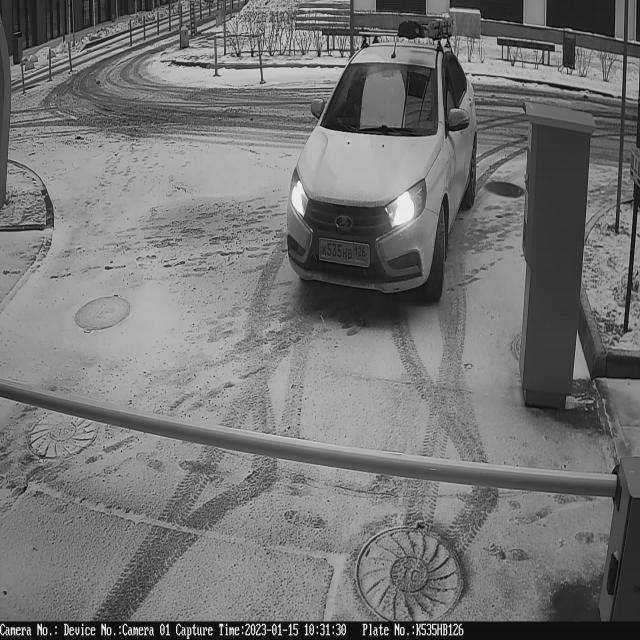car-plate-numbers: (318, 236, 373, 271)
